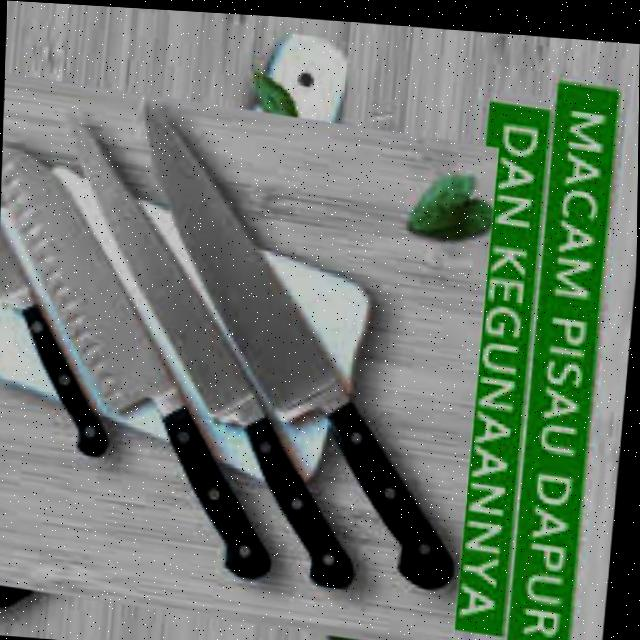knife: (126, 98, 467, 586), (55, 119, 368, 588), (0, 138, 282, 580), (0, 164, 114, 455)
